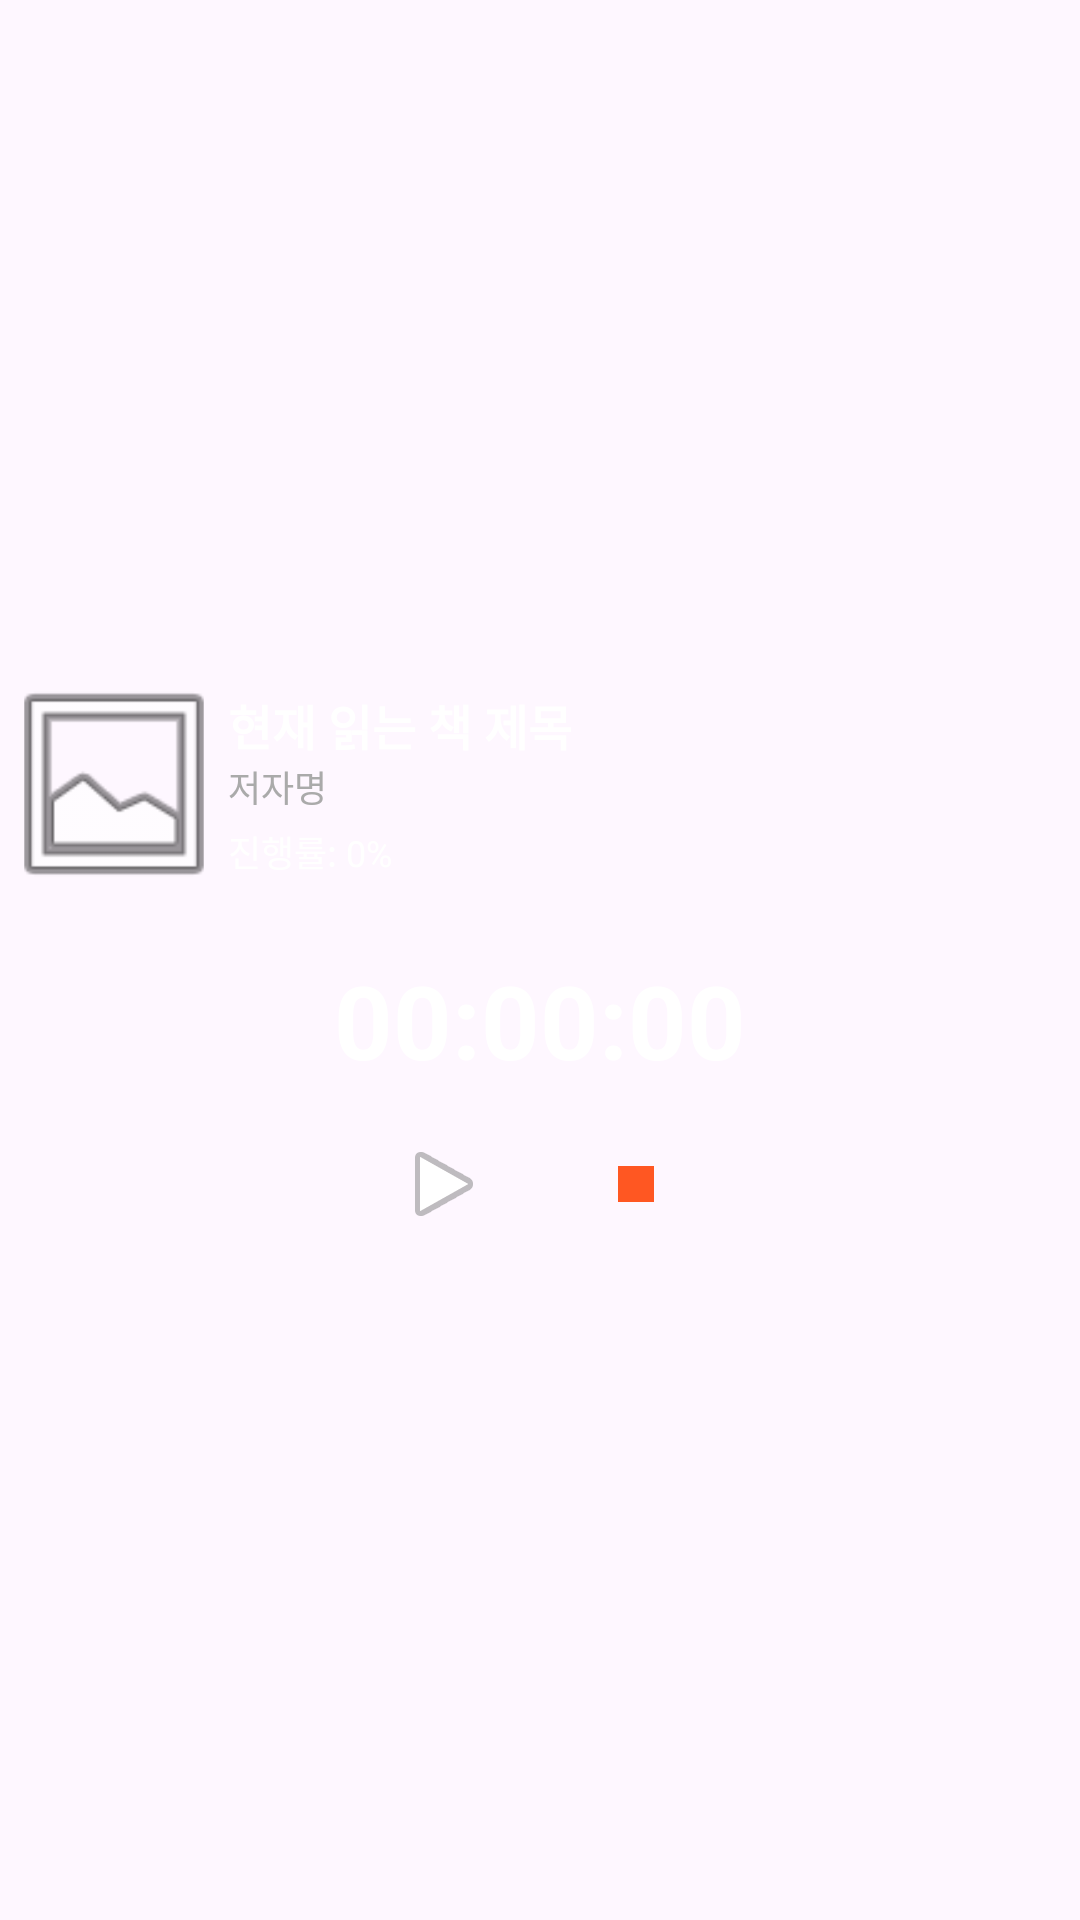

Named icons in this screenshot (1080 × 1920) and their centers, [x,y]:
Play or Pause Timer: [444,1184]
